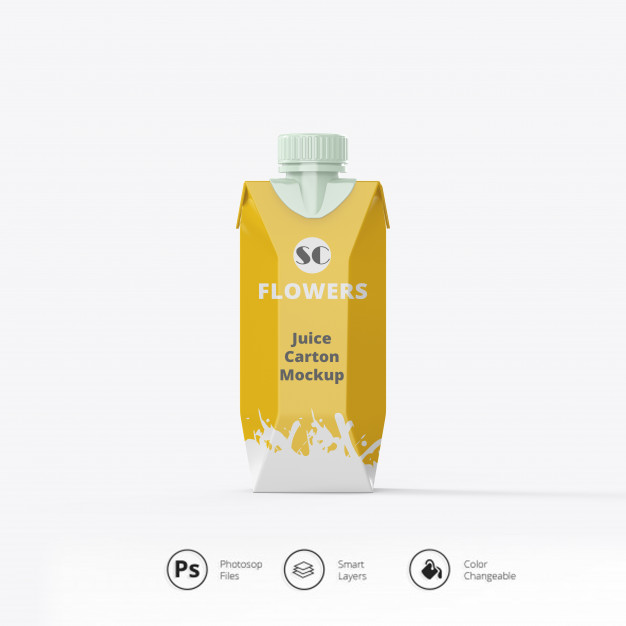carton: (233, 130, 395, 499)
